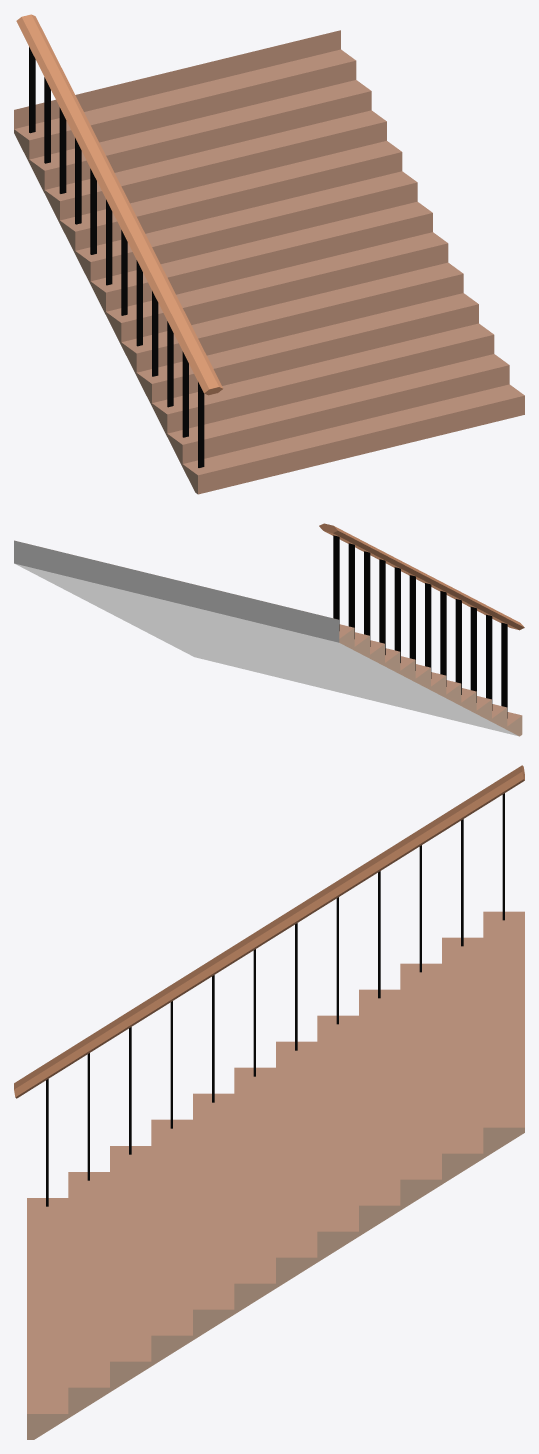
The model's file is sh-contrib-stairs-legal.glb.
The picture shows the model from 3 angles, top to bottom: view 1: azimuth 30°, elevation 25°; view 2: azimuth 150°, elevation 25°; view 3: azimuth 270°, elevation 25°; orthographic projection. The views are drawn at different scales.
Visible parts, largest first — view 1: 1_1, 1_1.001, Cube.010, 3_3; view 2: 1_1, Cube.010, 3_3, 1_1.001; view 3: 1_1, 3_3, 1_1.001, Cube.010.
Boxes of the visible parts, left/top/right/bottom form: 1_1: left=14, top=30, right=524, bottom=494; 1_1.001: left=16, top=14, right=223, bottom=395; Cube.010: left=29, top=47, right=204, bottom=467; 3_3: left=14, top=129, right=197, bottom=494; 1_1: left=14, top=540, right=521, bottom=736; Cube.010: left=333, top=535, right=507, bottom=718; 3_3: left=339, top=628, right=522, bottom=736; 1_1.001: left=319, top=523, right=524, bottom=630; 1_1: left=27, top=911, right=524, bottom=1413; 3_3: left=27, top=1127, right=524, bottom=1439; 1_1.001: left=14, top=765, right=524, bottom=1098; Cube.010: left=46, top=793, right=504, bottom=1206.
Size of the model in its own units: 1 by 1 by 1.
